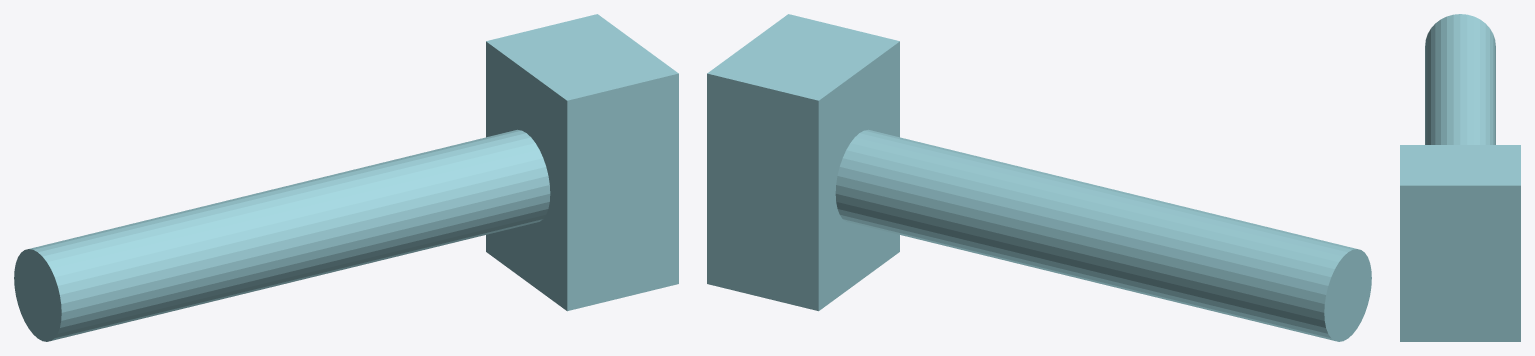
The model's file is cylinder_hammer_v1012.obj.
3 views of the same model, side by side, from view 1: azimuth 30°, elevation 25°; view 2: azimuth 150°, elevation 25°; view 3: azimuth 270°, elevation 25° (orthographic). The views are drawn at different scales.
Size of the model in its own units: 0.2267 by 0.076 by 0.0532.
Materials: 1 (1 with a texture image).
